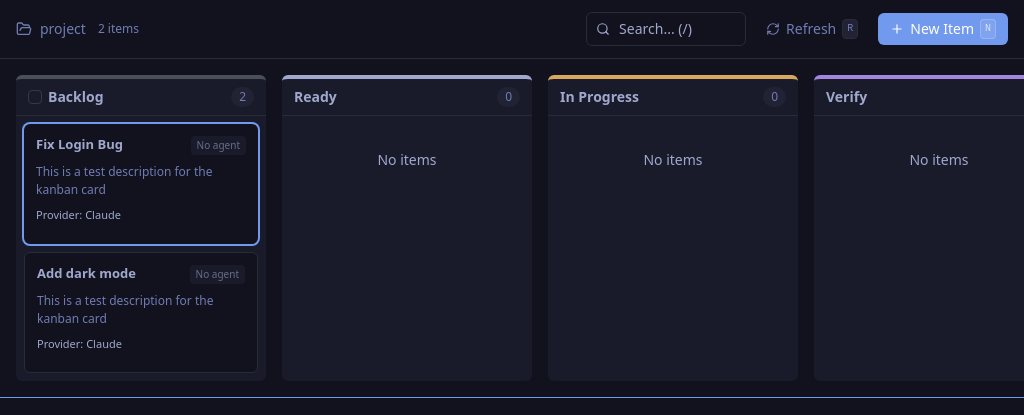
Scenario: KanbanView › should filter cards case-insensitively
Step 1. Type "fix" into the field with test id "search-input" → [666, 29], box [586,12,746,46]
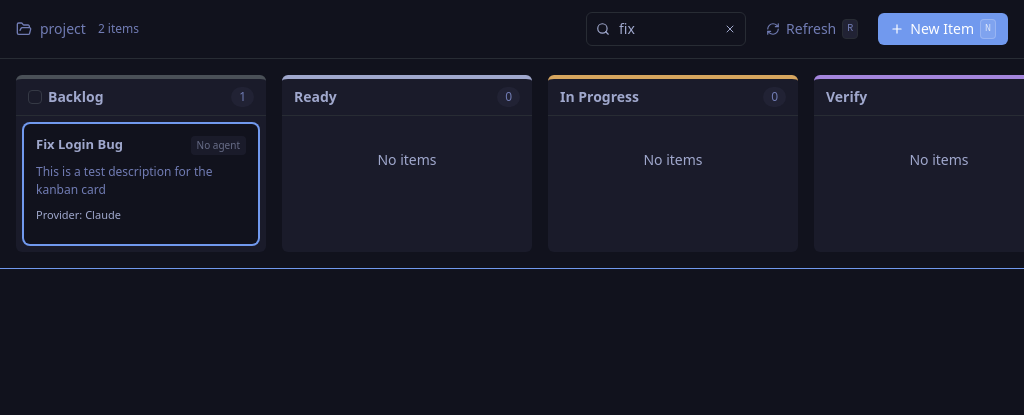
Expected: the heading "Fix Login Bug" is shown, [36,136,123,152]
Now the number of buttons with test id "kanban-card" is 1, box [24,124,258,244]
